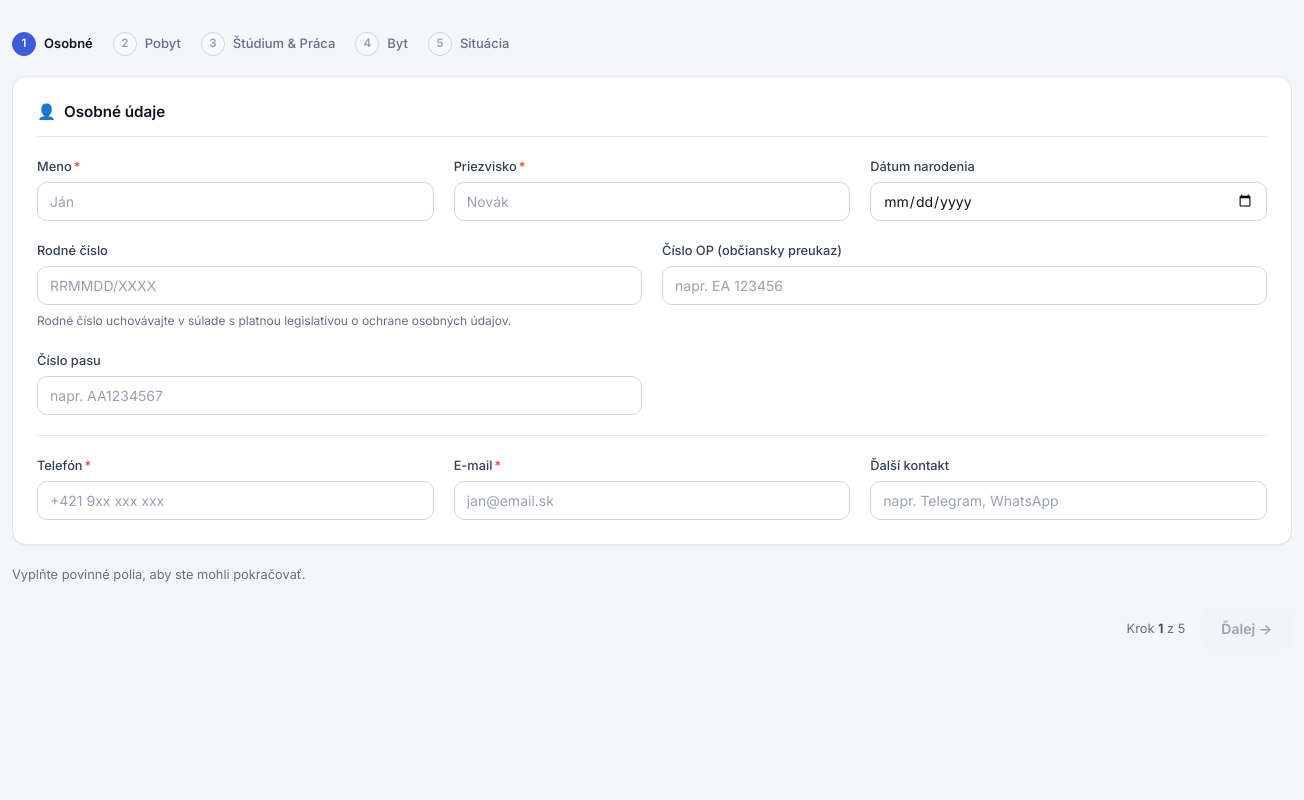
Test case: TenantForm (Sprint 3.1–3.3) › shows a field error only after the field has been left
The width and height of the screenshot is (1304, 800).
Step 1. Type "not-an-email" into the field labelled "E-mail*" → (652, 500), box [454,481,850,520]
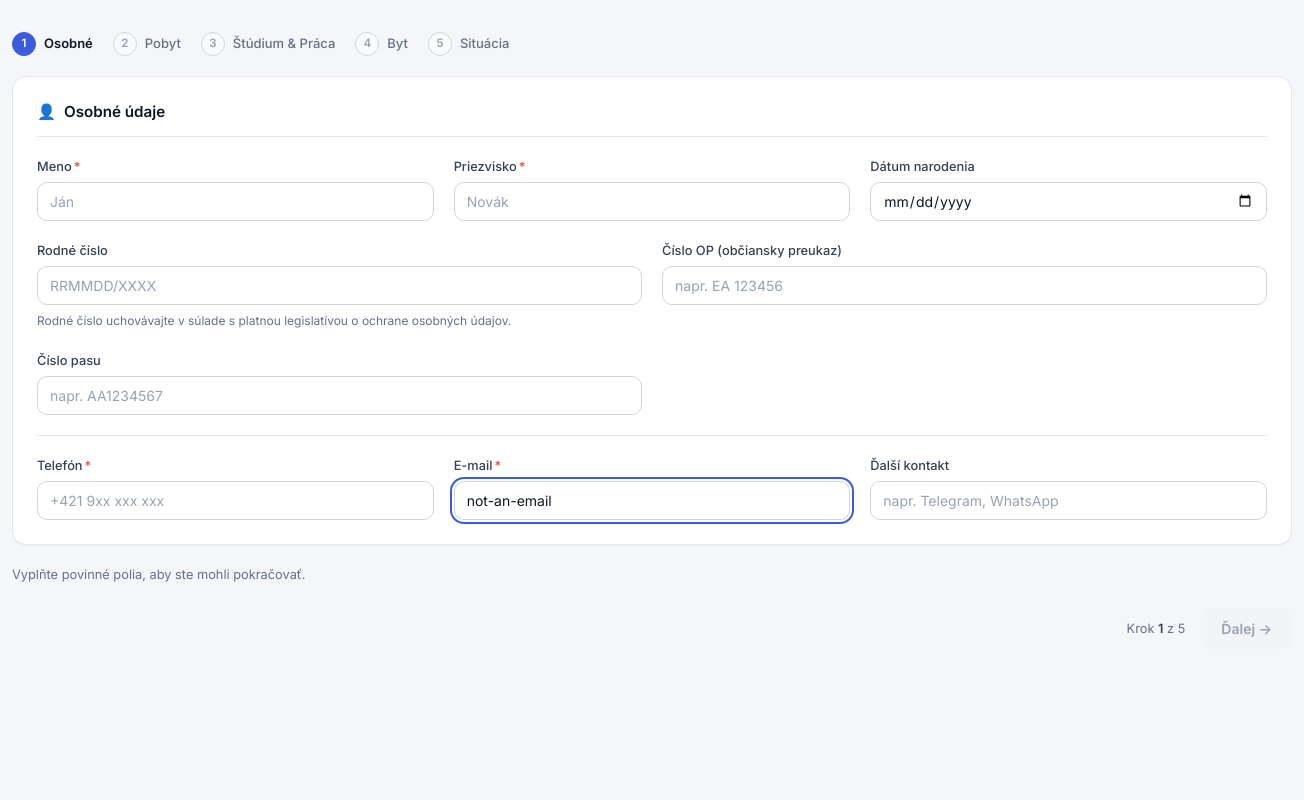
Expected: the text "Zadajte platný e-mail" is not shown
Step 2. Press Tab
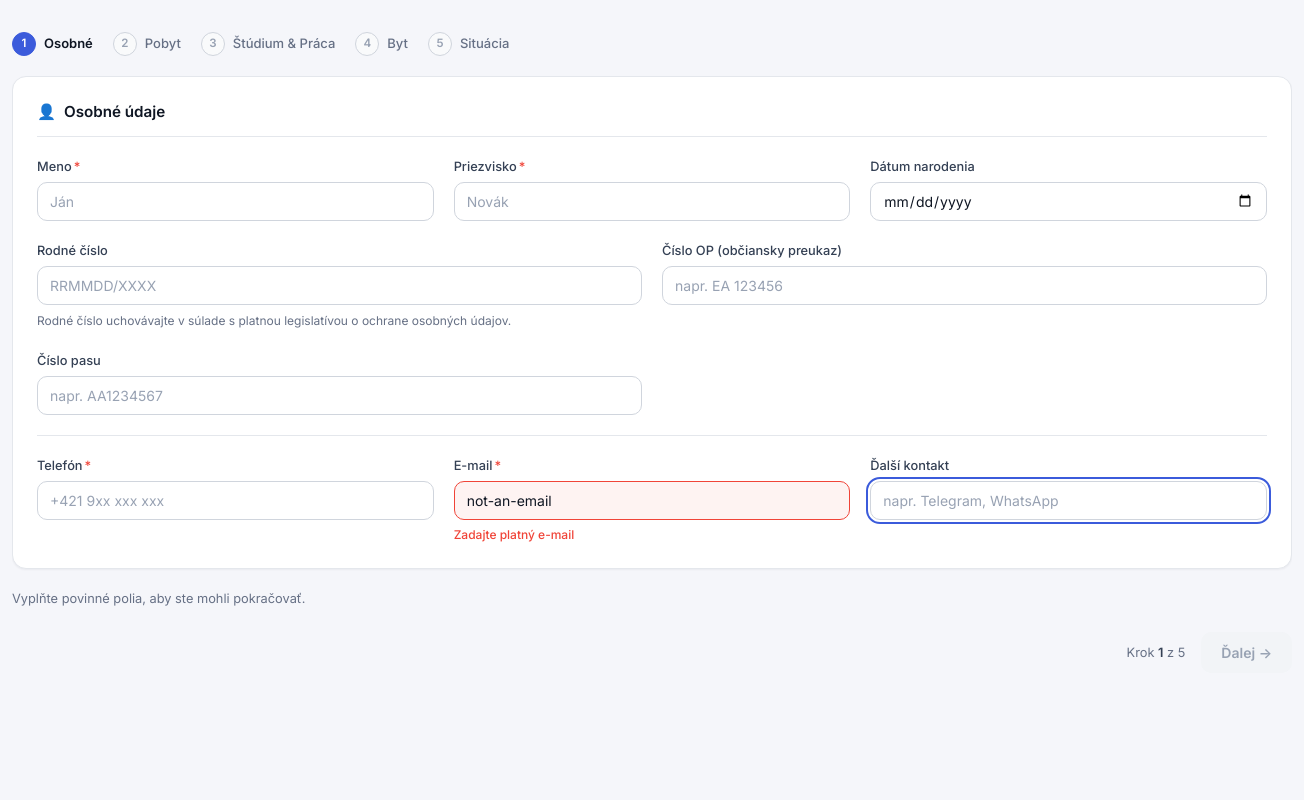
Expected: the text "Zadajte platný e-mail" is shown, [454,527,574,542]
